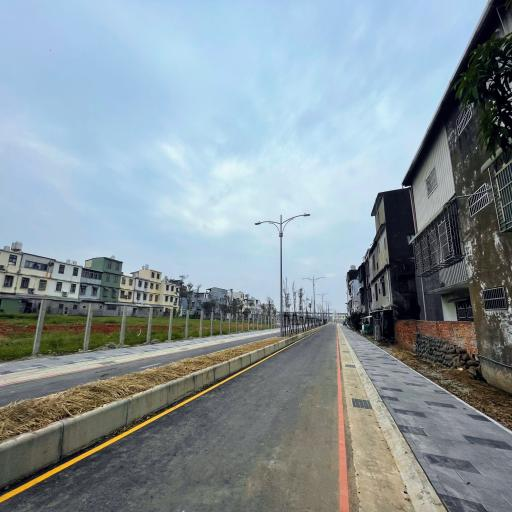redline: (332, 329, 362, 512)
yellowline: (0, 347, 273, 511)
